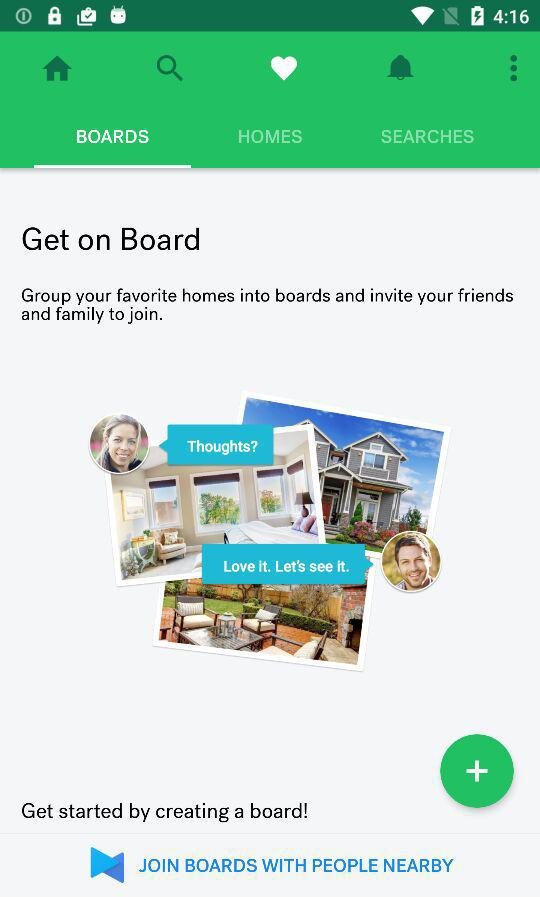Icon: (439, 734, 515, 808), (43, 56, 73, 82), (386, 55, 415, 81), (270, 56, 298, 82), (157, 56, 184, 82), (510, 55, 518, 83)
Image: (86, 391, 450, 674), (91, 847, 126, 884)
Text: (22, 288, 514, 325), (21, 802, 308, 823), (139, 858, 454, 873), (22, 227, 200, 252), (381, 130, 475, 145), (77, 130, 150, 145), (239, 130, 304, 145)
UpperTaskBar: (1, 1, 540, 33)
